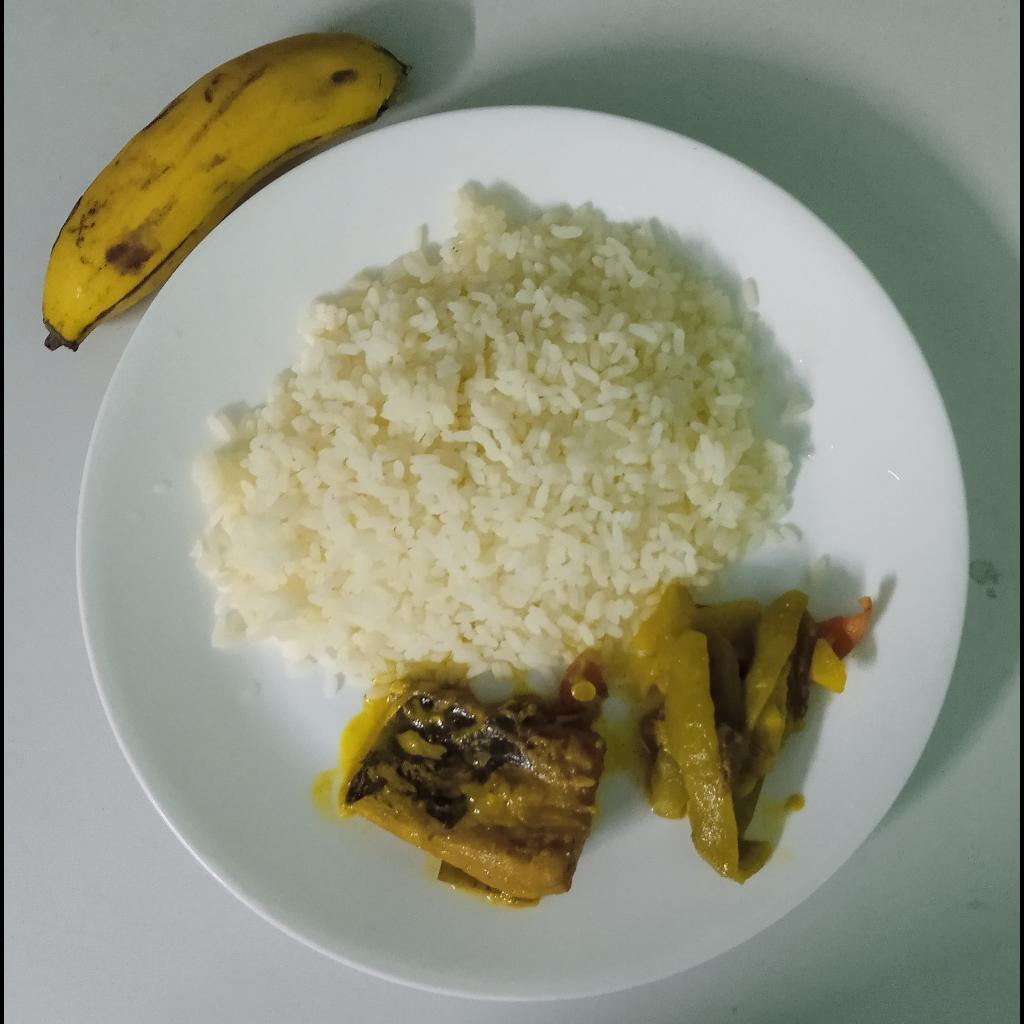banana: (42, 32, 409, 353)
fish: (337, 660, 611, 909)
potol: (627, 587, 875, 882)
rice: (190, 183, 806, 691)
